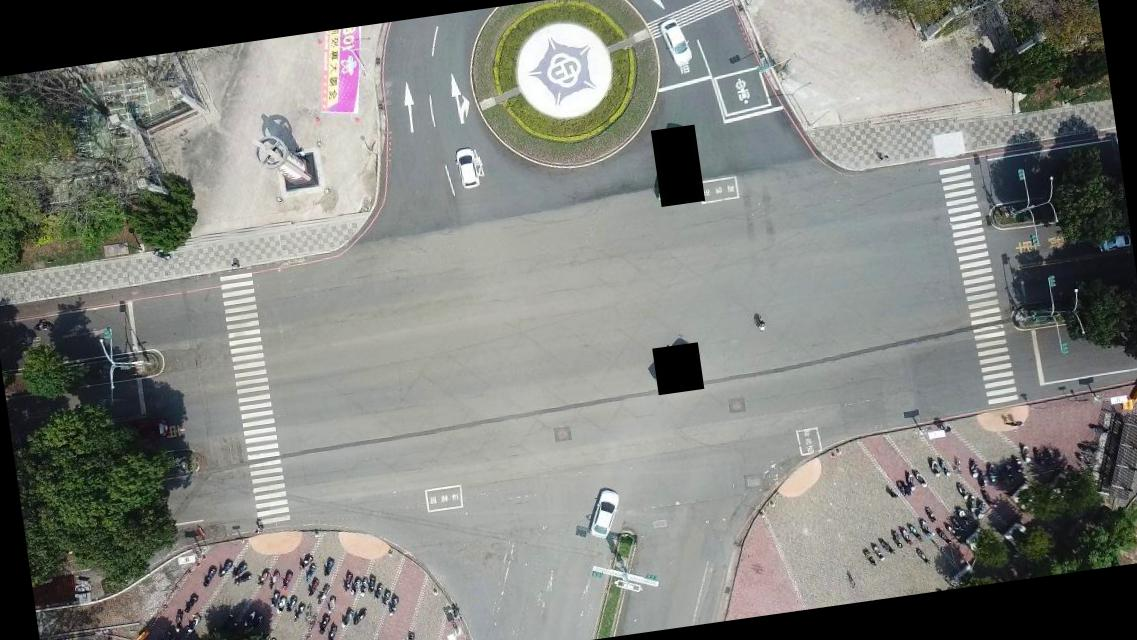vehicle: (585, 485, 628, 542), (659, 14, 694, 66), (121, 416, 171, 445), (454, 145, 481, 191), (1096, 231, 1132, 255)
